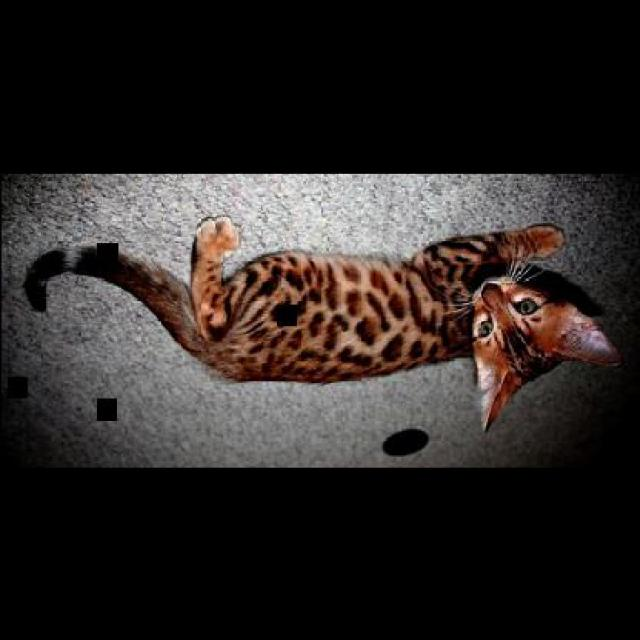unauthorized: (23, 212, 622, 432)
